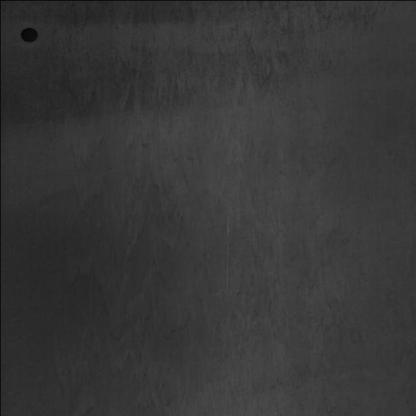punching_hole: (18, 22, 40, 47)
silk_spot: (53, 11, 202, 402), (208, 13, 355, 400)
